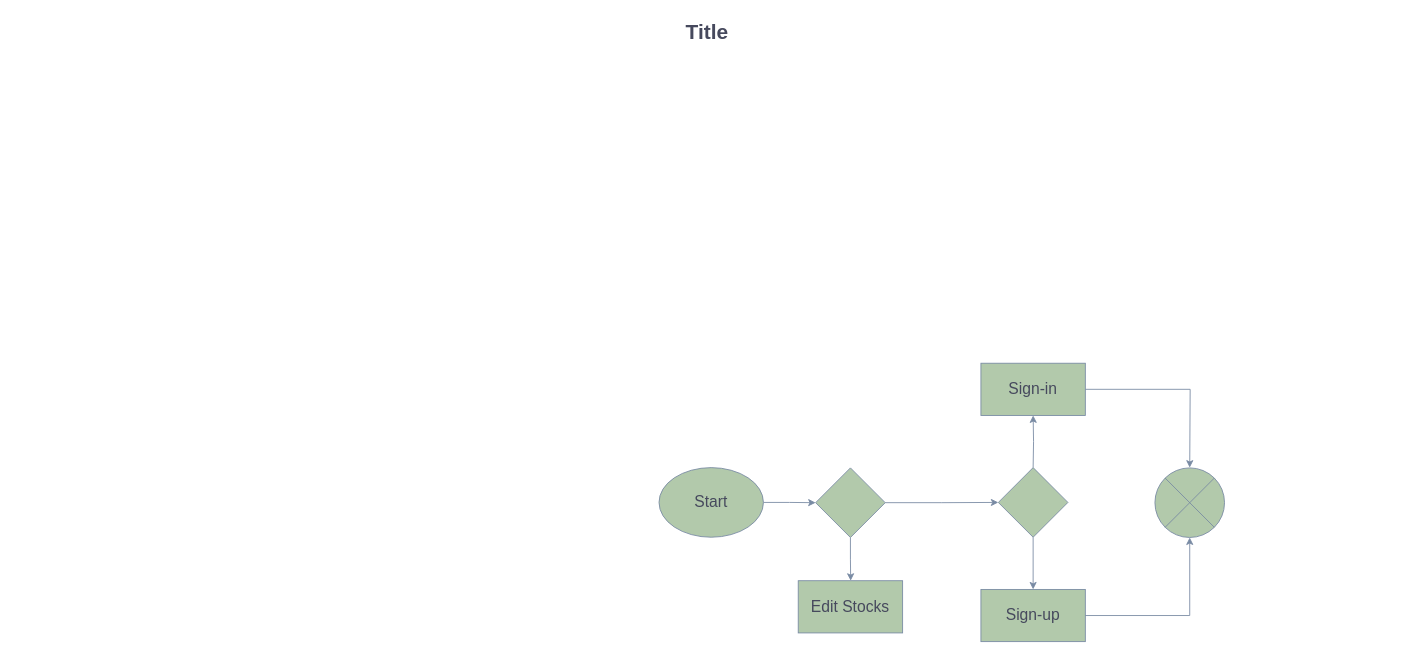
The diagram is 1413 pixels wide and 657 high, and some of its shapes have lost their labels. The shapes that lost their labels are listed below. From the top down, each one's box as (x1, y1, x2, y2) in pixels, then its label:
(815, 467, 885, 537): IsAdmin
(997, 467, 1068, 537): NewUser
